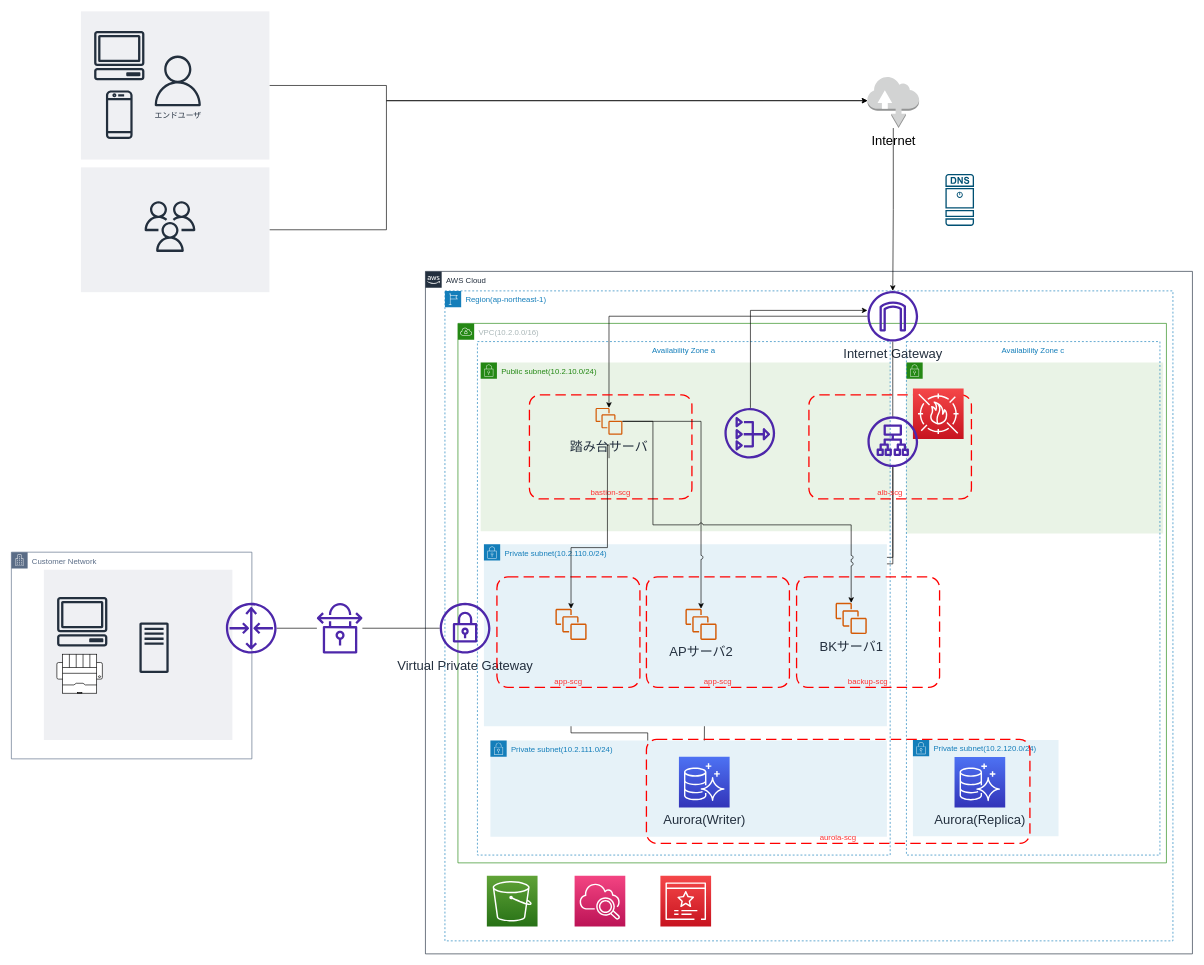
Some shapes in this 1204 by 965 pixel diagram are drawn without their labels. Each missing label, with the centre of its shape:
"ACM" belongs at (x=685, y=901).
"Applicattion LoadBalancer" belongs at (x=892, y=441).
"APサーバ1" belongs at (x=570, y=624).
"AWS WAF" belongs at (x=938, y=413).
"CloudWatch" belongs at (x=599, y=901).
"Customer Gateway" belongs at (x=251, y=628).
"NAT Gateway" belongs at (x=749, y=433).
"Public subnet(10.2.20.0/24)" belongs at (x=1034, y=447).
"S3" belongs at (x=512, y=901).
"VPN Connection" belongs at (x=339, y=628).
"お客様DNSサーバ" belongs at (x=959, y=200).
"システム" belongs at (x=153, y=647).
"保守担当者" belongs at (x=169, y=226).
